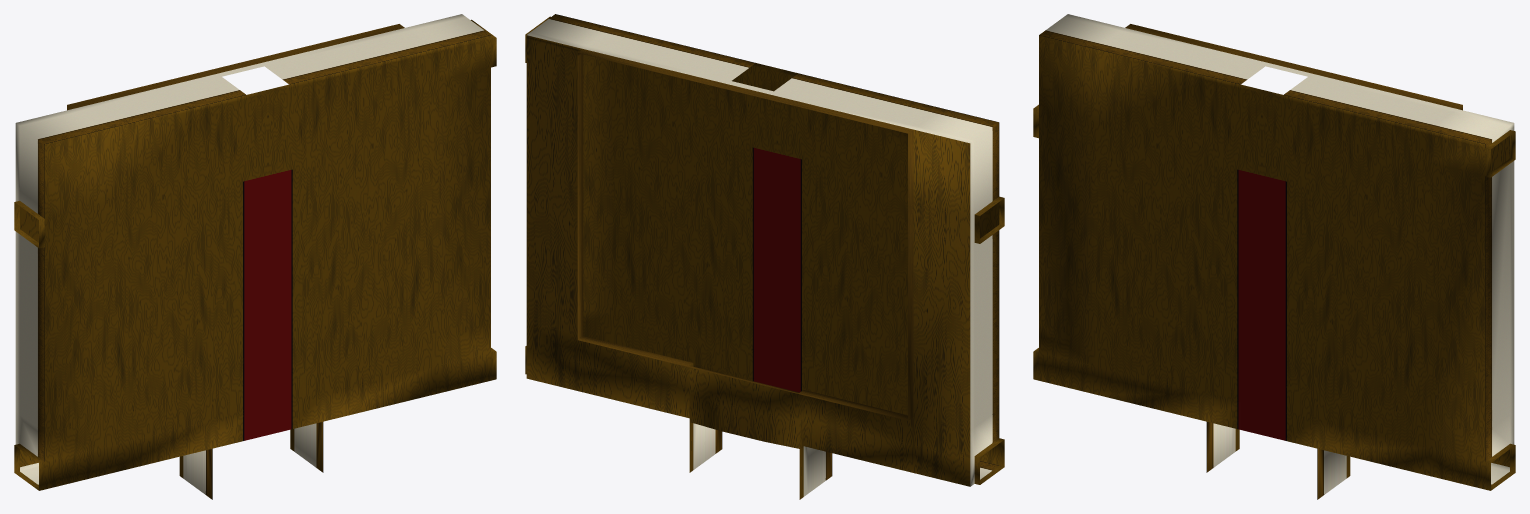
File: Saloon.fbx
3 renders of one model, left to right at view 1: azimuth 30°, elevation 25°; view 2: azimuth 150°, elevation 25°; view 3: azimuth 330°, elevation 25°, orthographic.
Visible parts, largest first — view 1: obj5; view 2: obj5; view 3: obj5.
Boxes of the visible parts, x1,y1,x2,y2 form: obj5: (14, 14, 496, 499); obj5: (525, 14, 1004, 499); obj5: (1033, 14, 1515, 499).
Size of the model in its own units: 2132 by 1766 by 280.
1 material, 1 textured.
